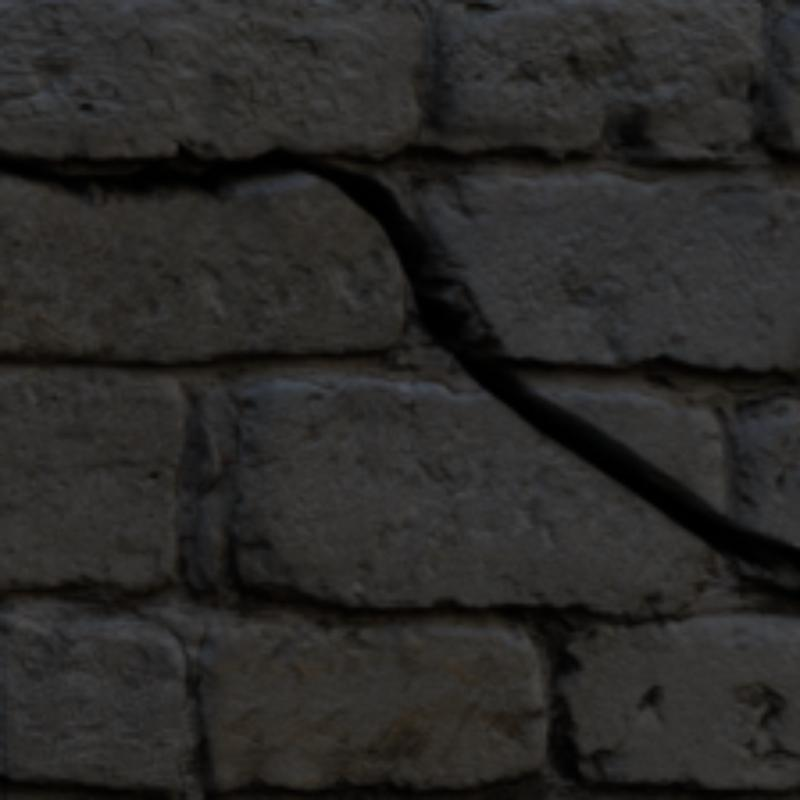pothole: (0, 143, 796, 585)
